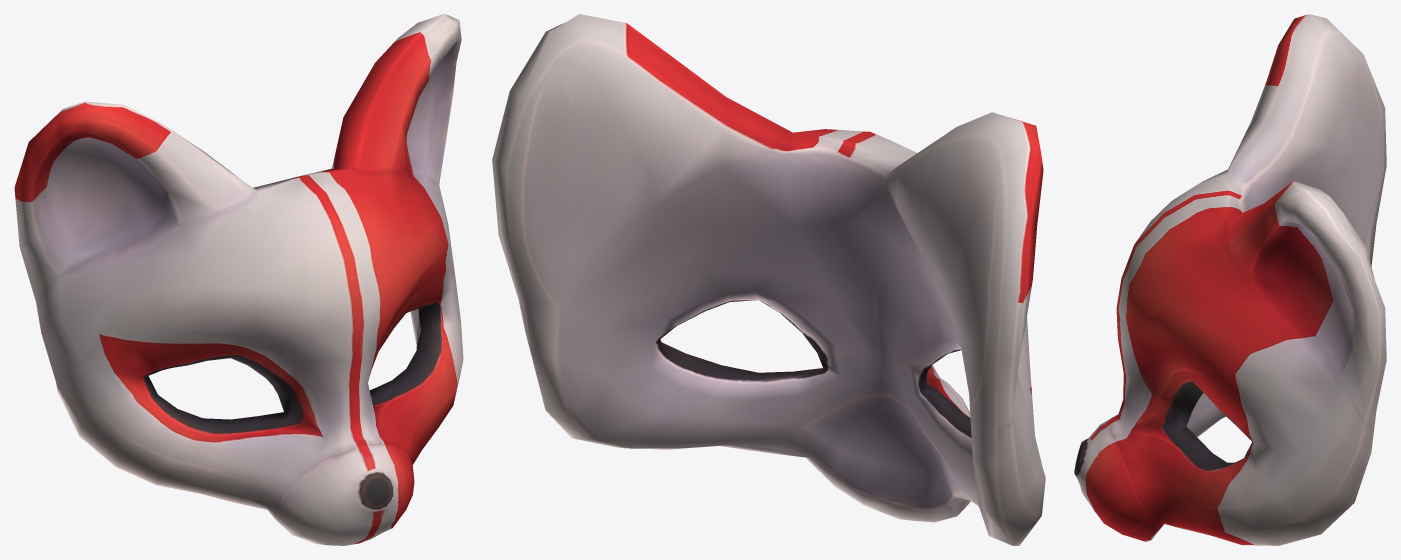
3 renders of one model, left to right at view 1: azimuth 30°, elevation 25°; view 2: azimuth 150°, elevation 25°; view 3: azimuth 270°, elevation 25°, orthographic. The views are drawn at different scales.
Visible parts, largest first — view 1: Wolf3D_Facewear; view 2: Wolf3D_Facewear; view 3: Wolf3D_Facewear.
Boxes of the visible parts, box(x1,y1,x2,y2) form: Wolf3D_Facewear: box(14, 14, 463, 545); Wolf3D_Facewear: box(492, 14, 1045, 545); Wolf3D_Facewear: box(1074, 14, 1386, 545).
Bounding box in the file's own units: 0.1918 × 0.1807 × 0.1189.
1 material, 1 textured.
